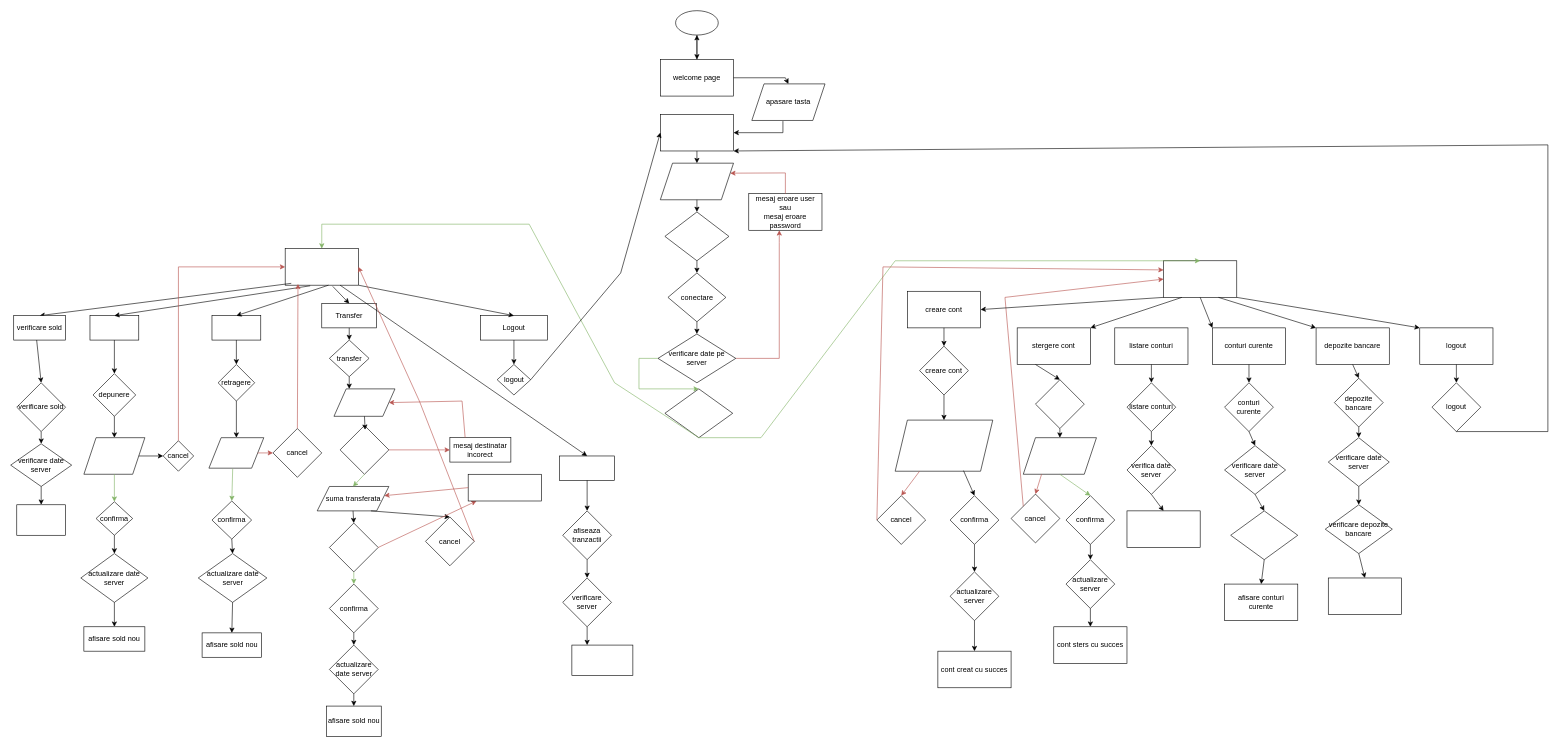
Image size: 1563x747. Some labels were removed from this diagram. The shapes that lost their labels are listed below. From the top down, each one's centre as x and y in pixels, then its label:
At point (696, 22): "start".
At point (697, 132): "login page user/password".
At point (697, 181): "user/password".
At point (696, 236): "user+password".
At point (321, 266): "meniu client".
At point (1200, 278): "meniu admin".
At point (114, 327): "Deposit".
At point (236, 327): "Withdraw".
At point (364, 402): "destinatar".
At point (698, 413): "obtine rol: client/admin".
At point (1059, 404): "sterge cont".
At point (114, 455): "suma depusa".
At point (236, 452): "suma retrasa".
At point (364, 449): "verifica destinatar".
At point (944, 445): "nume tip cont(client/admin) parola tip cont(curent/depozit) suma".
At point (1059, 455): "cont_id".
At point (504, 487): "mesaj suma incorecta".
At point (587, 467): "Transactions (incomplet)".
At point (41, 519): "afisare sold".
At point (1163, 528): "lista cu toate conturile".
At point (1264, 535): "verificare conturi curente".
At point (353, 547): "verifica suma transferata".
At point (1364, 596): "afisare depozite bancare".
At point (602, 660): "afisare tranzactii".
